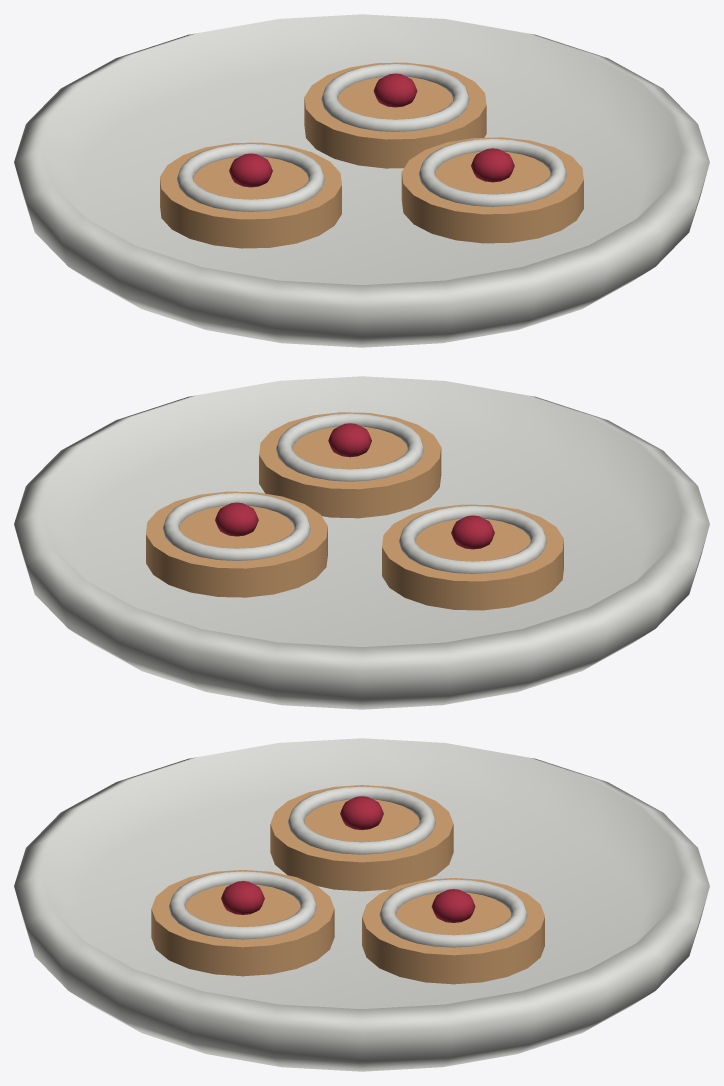
Rendered from christmas-storybook-iced-cookie-plate-e5daee0b.glb.
3 renders of one model, top to bottom at view 1: azimuth 30°, elevation 25°; view 2: azimuth 150°, elevation 25°; view 3: azimuth 270°, elevation 25°, orthographic.
Parts seen in each view (by area): view 1: cream, biscuit, berry; view 2: cream, biscuit, berry; view 3: cream, biscuit, berry.
Boxes of the visible parts, box(x1,y1,x2,y2) form: cream: box(14, 14, 709, 347); biscuit: box(160, 62, 583, 248); berry: box(229, 73, 514, 187); cream: box(14, 376, 709, 709); biscuit: box(146, 412, 563, 610); berry: box(215, 423, 494, 549); cream: box(14, 738, 709, 1071); biscuit: box(151, 785, 544, 984); berry: box(221, 796, 475, 922).
Bounding box in the file's own units: 0.76 × 0.11 × 0.76.
